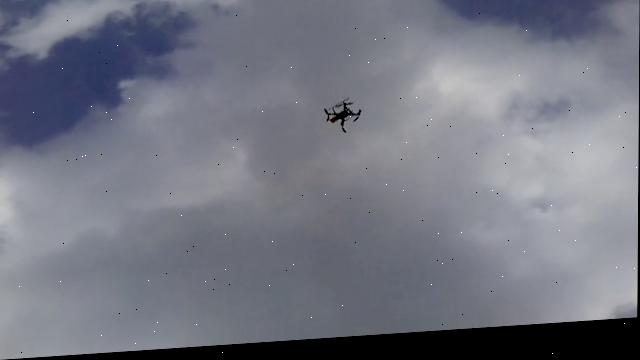drone: (319, 103, 364, 145)
